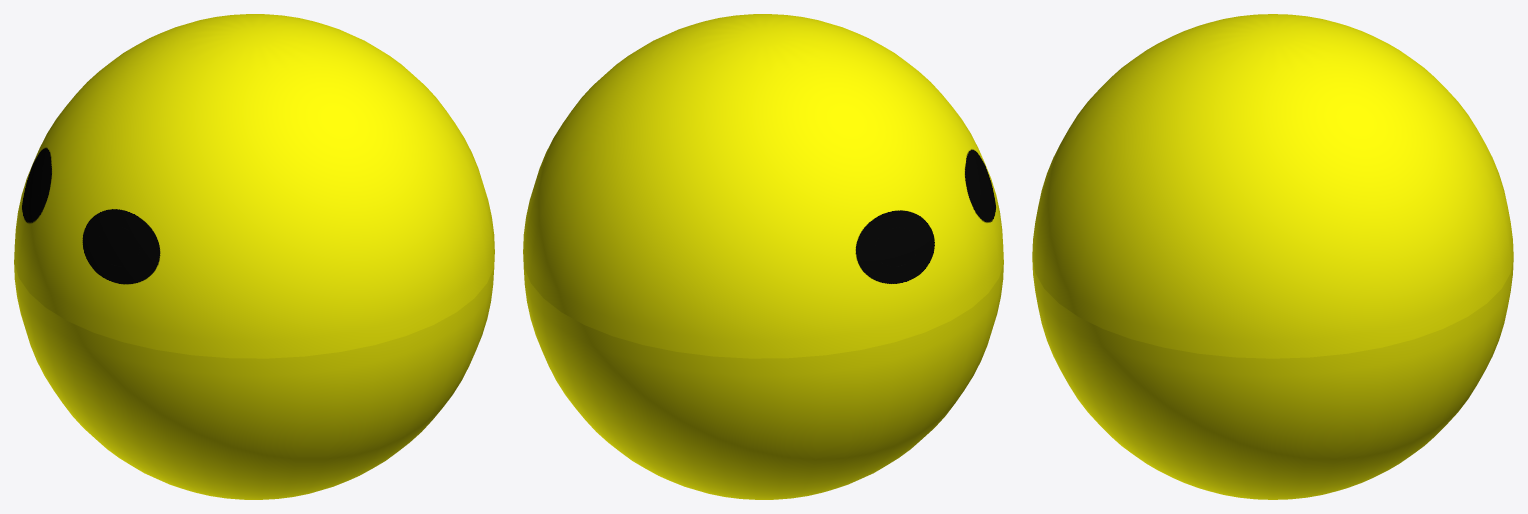
File: Pacman1.obj
3 views of the same model, side by side, from view 1: azimuth 30°, elevation 25°; view 2: azimuth 150°, elevation 25°; view 3: azimuth 270°, elevation 25° (orthographic).
Visible parts, largest first — view 1: polySurface3; view 2: polySurface3; view 3: polySurface3.
Boxes of the visible parts, left/top/right/bottom form: polySurface3: left=14, top=14, right=494, bottom=499; polySurface3: left=523, top=14, right=1003, bottom=499; polySurface3: left=1032, top=14, right=1513, bottom=499.
Bounding box in the file's own units: 1.97 × 2 × 1.97.
